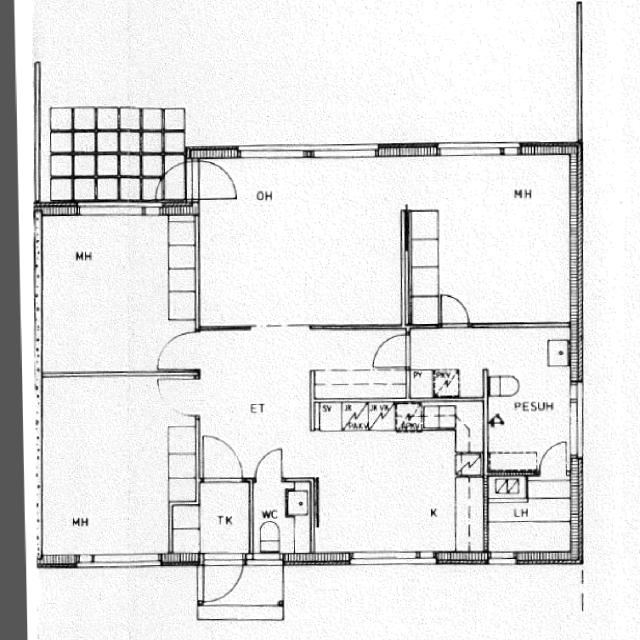door: (200, 434, 244, 481), (197, 159, 238, 205), (204, 554, 244, 600), (154, 158, 194, 204), (371, 331, 410, 369), (157, 332, 191, 371), (534, 440, 569, 477), (438, 292, 472, 328), (253, 446, 286, 482)
window: (436, 142, 522, 158), (569, 381, 585, 460), (398, 243, 412, 324), (87, 555, 162, 569), (348, 554, 430, 566), (238, 147, 306, 159), (308, 148, 376, 159), (486, 552, 516, 566)
zone: (199, 150, 433, 328), (35, 370, 197, 559), (430, 152, 577, 327), (36, 210, 174, 378), (311, 425, 460, 554), (201, 325, 312, 483), (486, 326, 572, 474), (309, 327, 404, 402), (408, 324, 486, 399), (250, 478, 311, 555), (199, 478, 252, 558), (467, 478, 485, 552)
